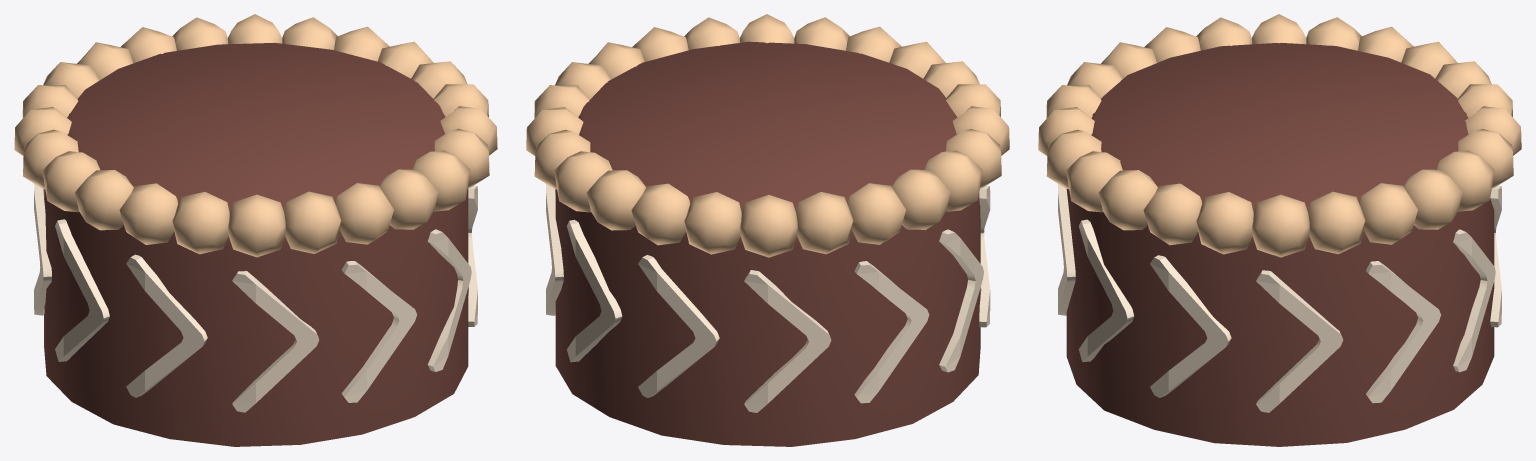
File: SM_mod_speed.fbx
3 views of the same model, side by side, from view 1: azimuth 30°, elevation 25°; view 2: azimuth 150°, elevation 25°; view 3: azimuth 270°, elevation 25° (orthographic).
Parts seen in each view (by area): view 1: SM_mod_speed; view 2: SM_mod_speed; view 3: SM_mod_speed.
Boxes of the visible parts, box(x1,y1,x2,y2) form: SM_mod_speed: box(14, 14, 497, 446); SM_mod_speed: box(526, 14, 1009, 446); SM_mod_speed: box(1038, 14, 1521, 446).
Bounding box in the file's own units: 211 × 119 × 211.
1 material, 1 textured.
